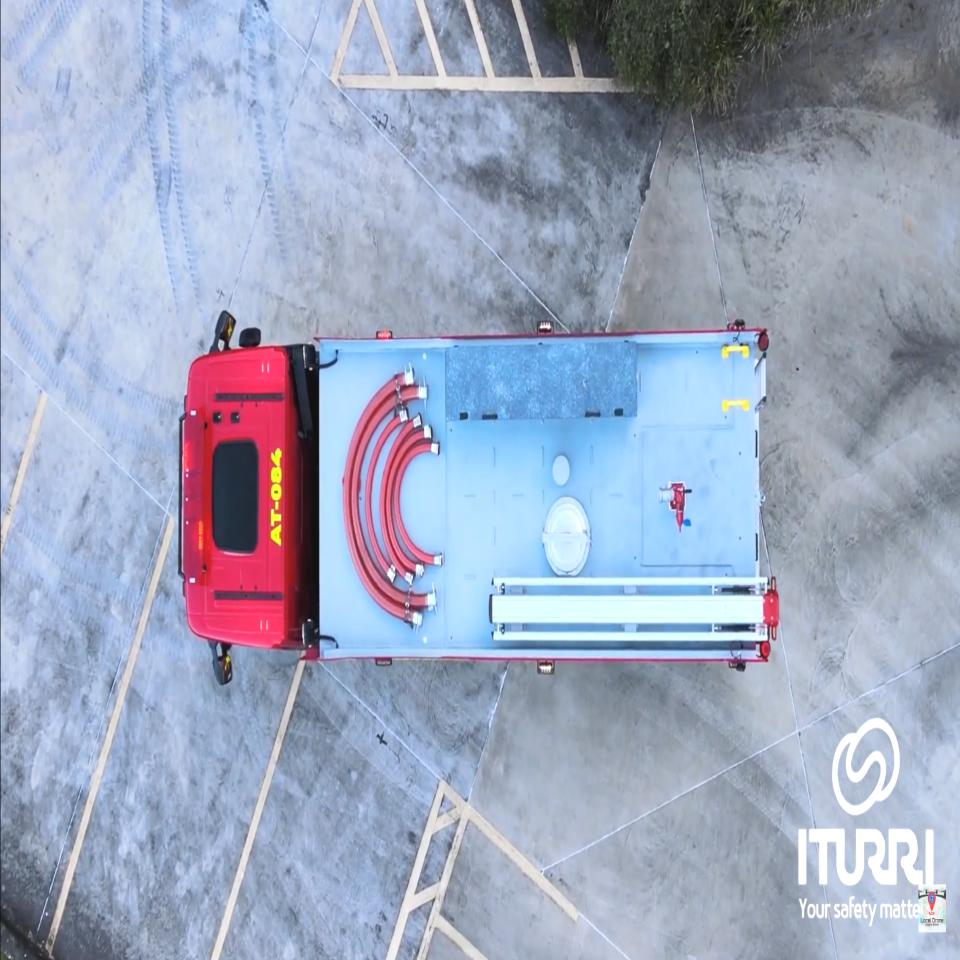bombeiro: (174, 308, 784, 690)
